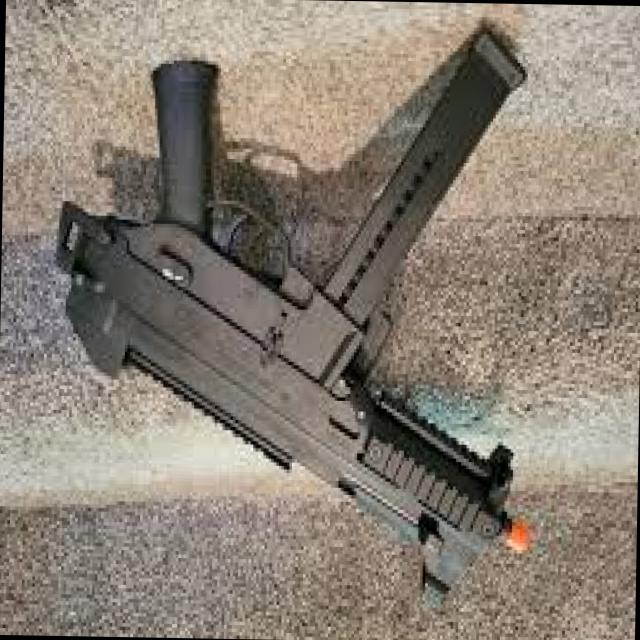Gun: (32, 8, 568, 623)
